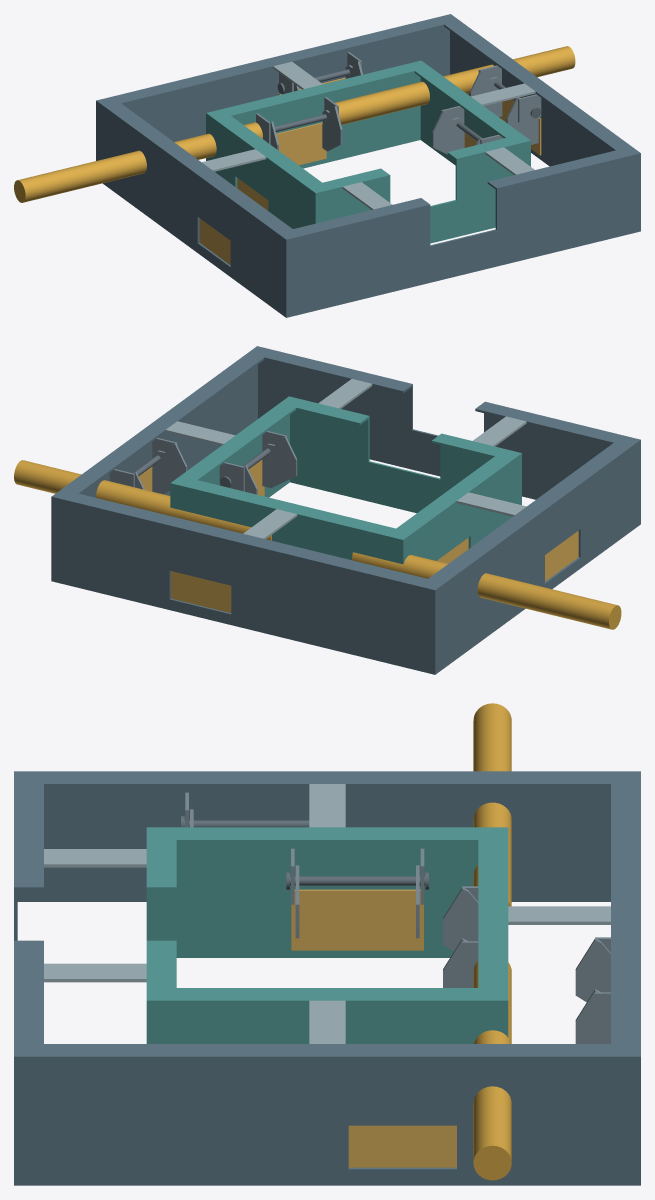
Rendered from nested_pin_access.glb.
3 views of the same model, one above another, from view 1: azimuth 30°, elevation 25°; view 2: azimuth 150°, elevation 25°; view 3: azimuth 270°, elevation 25° (orthographic). The views are drawn at different scales.
Visible parts, largest first — view 1: nested_pin_access (×7); view 2: nested_pin_access (×7); view 3: nested_pin_access (×7).
Part boxes in pixels (bbox=[...]): nested_pin_access (×7): bbox=[14, 14, 640, 317]; nested_pin_access (×7): bbox=[14, 346, 640, 674]; nested_pin_access (×7): bbox=[14, 703, 640, 1185].
Bounding box in the file's own units: 0.3473 × 0.0472 × 0.208.
